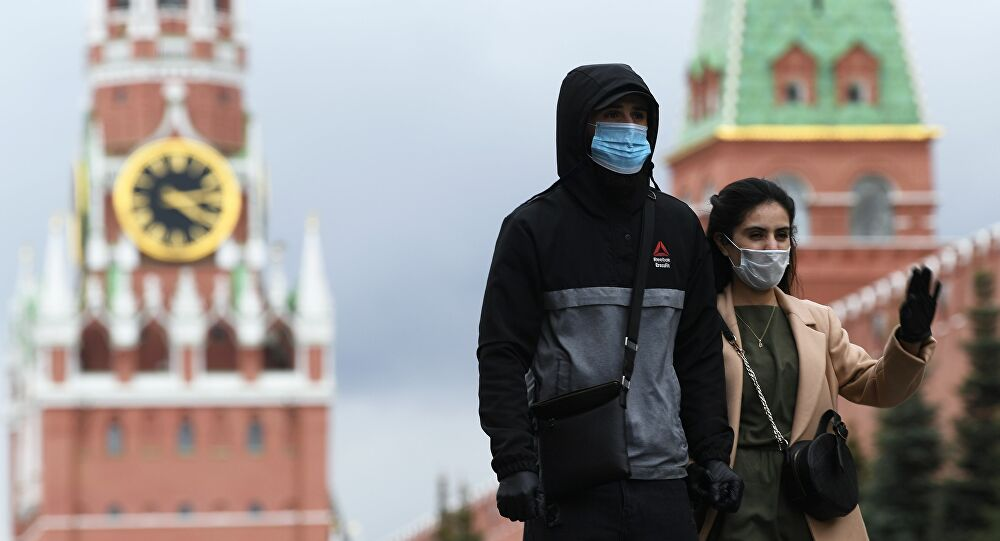with_mask: (573, 81, 661, 177), (714, 194, 799, 292)
